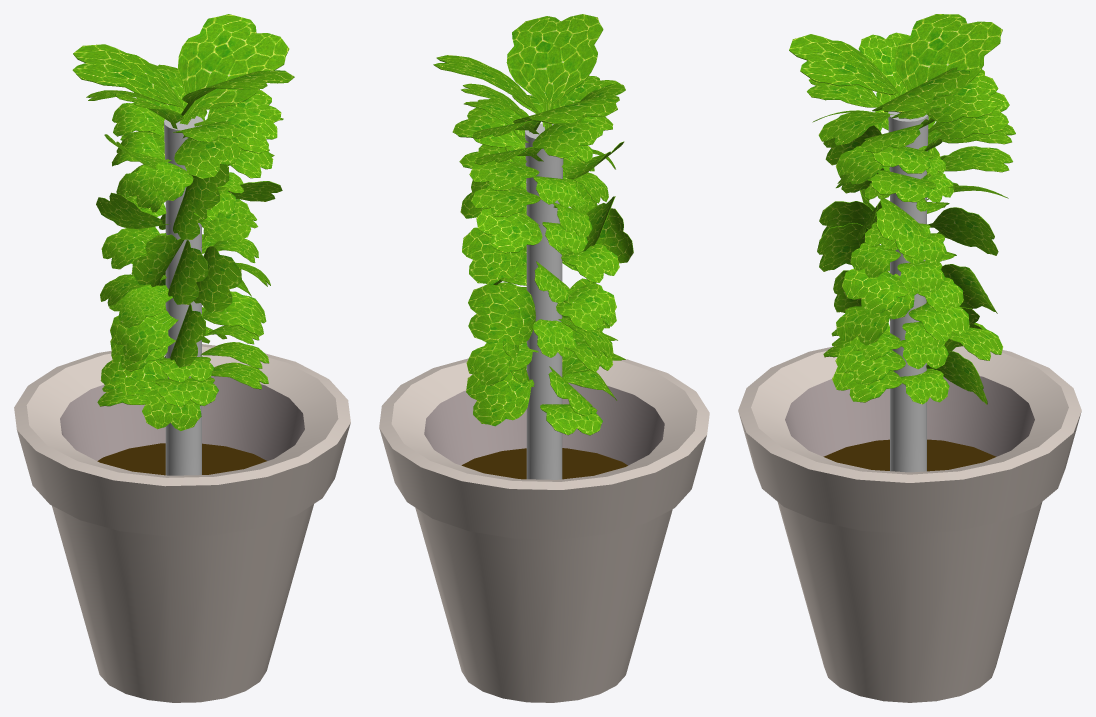
File: Plant for reception.fbx
3 renders of one model, left to right at view 1: azimuth 30°, elevation 25°; view 2: azimuth 150°, elevation 25°; view 3: azimuth 270°, elevation 25°, orthographic. The views are drawn at different scales.
Visible parts, largest first — view 1: pot_and_tree_stick, leaf1; view 2: pot_and_tree_stick, leaf1; view 3: pot_and_tree_stick, leaf1.
Part boxes in pixels (<box>): pot_and_tree_stick: <box>14,116,350,702</box>; leaf1: <box>72,14,294,430</box>; pot_and_tree_stick: <box>379,123,709,702</box>; leaf1: <box>433,14,633,435</box>; pot_and_tree_stick: <box>738,111,1081,702</box>; leaf1: <box>789,14,1015,404</box>.
Bounding box in the file's own units: 683 × 1380 × 683.
